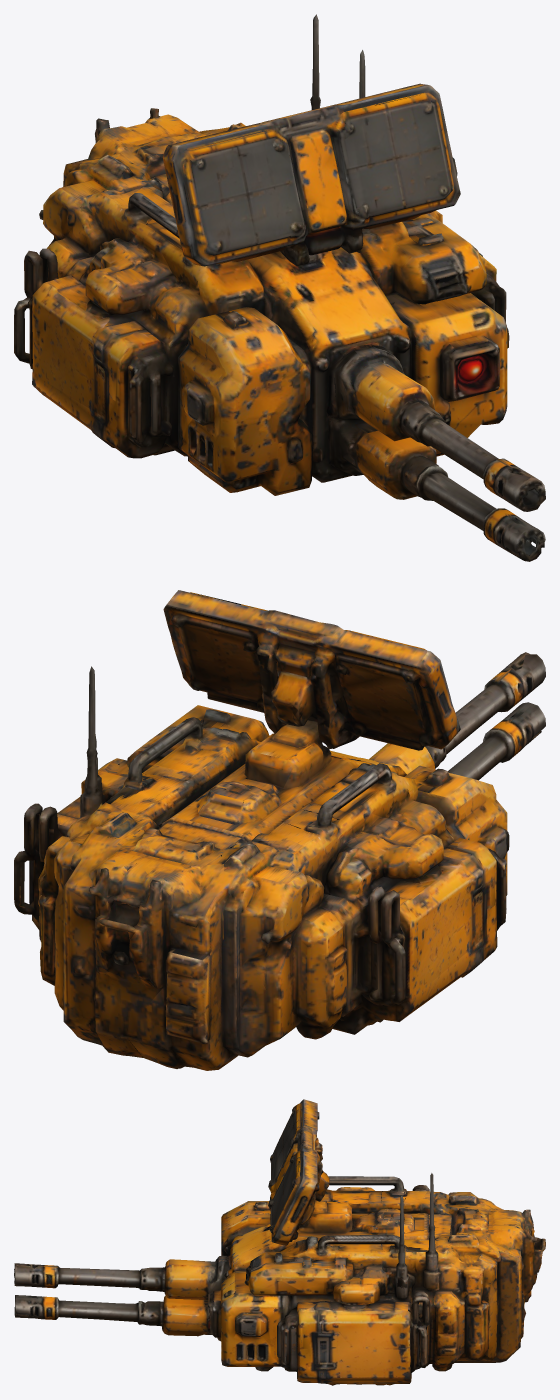
File: NV_L2_Guardian_Model.fbx
The picture shows the model from 3 angles, top to bottom: view 1: azimuth 30°, elevation 25°; view 2: azimuth 150°, elevation 25°; view 3: azimuth 270°, elevation 25°; orthographic projection. The views are drawn at different scales.
Visible parts, largest first — view 1: tripo_node_1889211c-378f-4535-b341-ceb6f459dd1d, tripo_node_1889211c-378f-4535-b341-ceb6f459dd1d.001; view 2: tripo_node_1889211c-378f-4535-b341-ceb6f459dd1d, tripo_node_1889211c-378f-4535-b341-ceb6f459dd1d.001; view 3: tripo_node_1889211c-378f-4535-b341-ceb6f459dd1d, tripo_node_1889211c-378f-4535-b341-ceb6f459dd1d.001.
Boxes of the visible parts, bbox=[...] form: tripo_node_1889211c-378f-4535-b341-ceb6f459dd1d: bbox=[14, 14, 509, 495]; tripo_node_1889211c-378f-4535-b341-ceb6f459dd1d.001: bbox=[326, 344, 545, 561]; tripo_node_1889211c-378f-4535-b341-ceb6f459dd1d: bbox=[14, 590, 509, 1070]; tripo_node_1889211c-378f-4535-b341-ceb6f459dd1d.001: bbox=[369, 652, 545, 780]; tripo_node_1889211c-378f-4535-b341-ceb6f459dd1d: bbox=[208, 1099, 545, 1385]; tripo_node_1889211c-378f-4535-b341-ceb6f459dd1d.001: bbox=[14, 1255, 230, 1336].
Size of the model in its own units: 53.94 by 44.72 by 99.95.
Materials: 1 (1 with a texture image).
